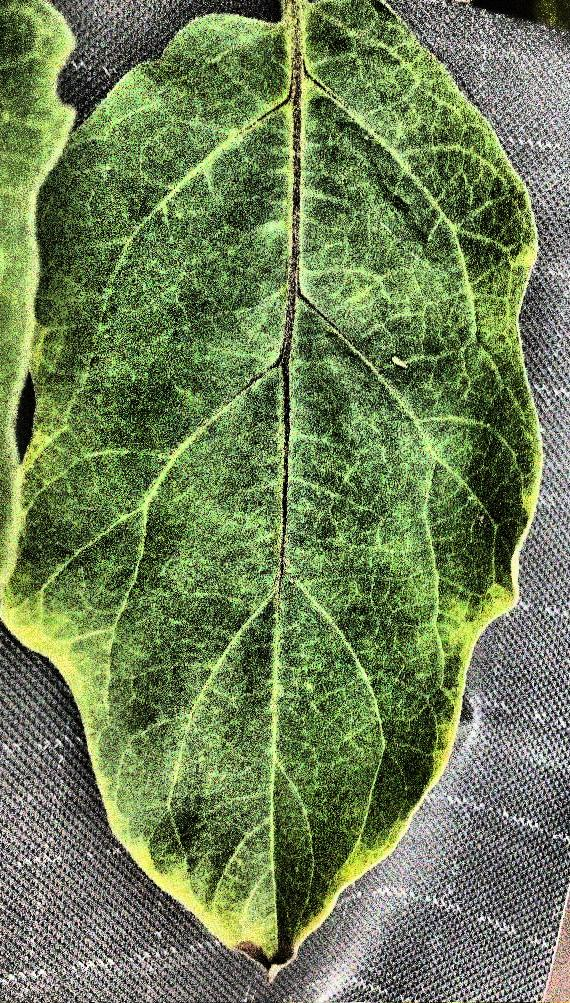Non-critical Stress: (0, 0, 570, 1003)
